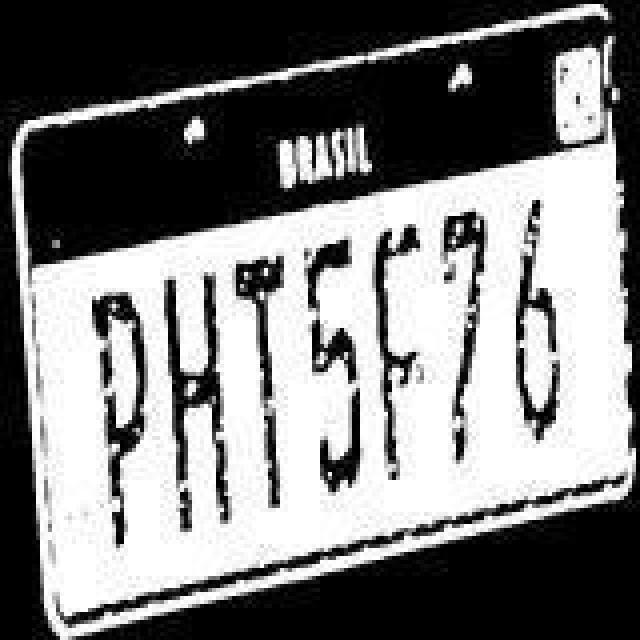5: (300, 226, 364, 502)
6: (512, 184, 576, 448)
7: (436, 194, 508, 470)
F: (372, 214, 428, 490)
H: (156, 258, 228, 542)
P: (88, 278, 152, 554)
T: (230, 244, 298, 516)
